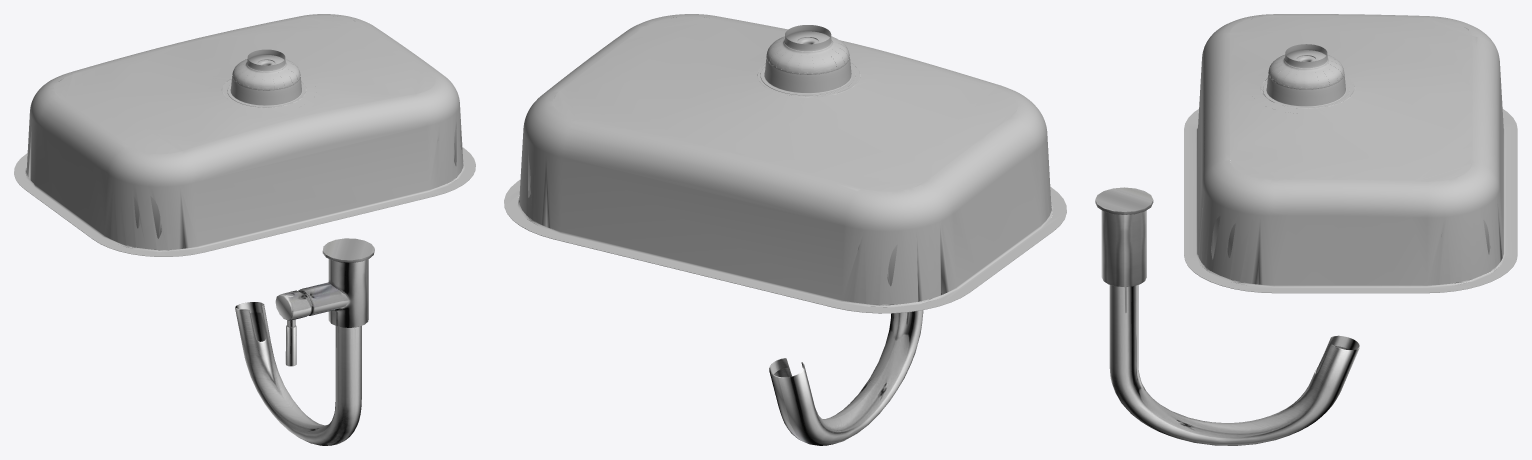
The model's file is PiaCozinha.fbx.
The picture shows the model from 3 angles, left to right: view 1: azimuth 30°, elevation 25°; view 2: azimuth 150°, elevation 25°; view 3: azimuth 270°, elevation 25°; orthographic projection. The views are drawn at different scales.
Parts seen in each view (by area): view 1: group_ 2.247, skp18F9, group_.359, group_.355, group_.360; view 2: group_ 2.247, skp18F9, group_.355; view 3: group_ 2.247, skp18F9, group_.359, group_.355.
Part boxes in pixels (x1,y1,x2,y2): group_ 2.247: (14,14,475,256); skp18F9: (235,302,361,445); group_.359: (285,238,374,366); group_.355: (222,49,306,108); group_.360: (275,290,310,320); group_ 2.247: (504,14,1066,313); skp18F9: (769,310,923,445); group_.355: (758,25,859,97); group_ 2.247: (1184,14,1517,293); skp18F9: (1109,285,1359,445); group_.359: (1095,187,1153,287); group_.355: (1261,44,1354,113).
Bounding box in the file's own units: 0.4675 × 0.4228 × 0.4142.
3 materials, 2 textured.
